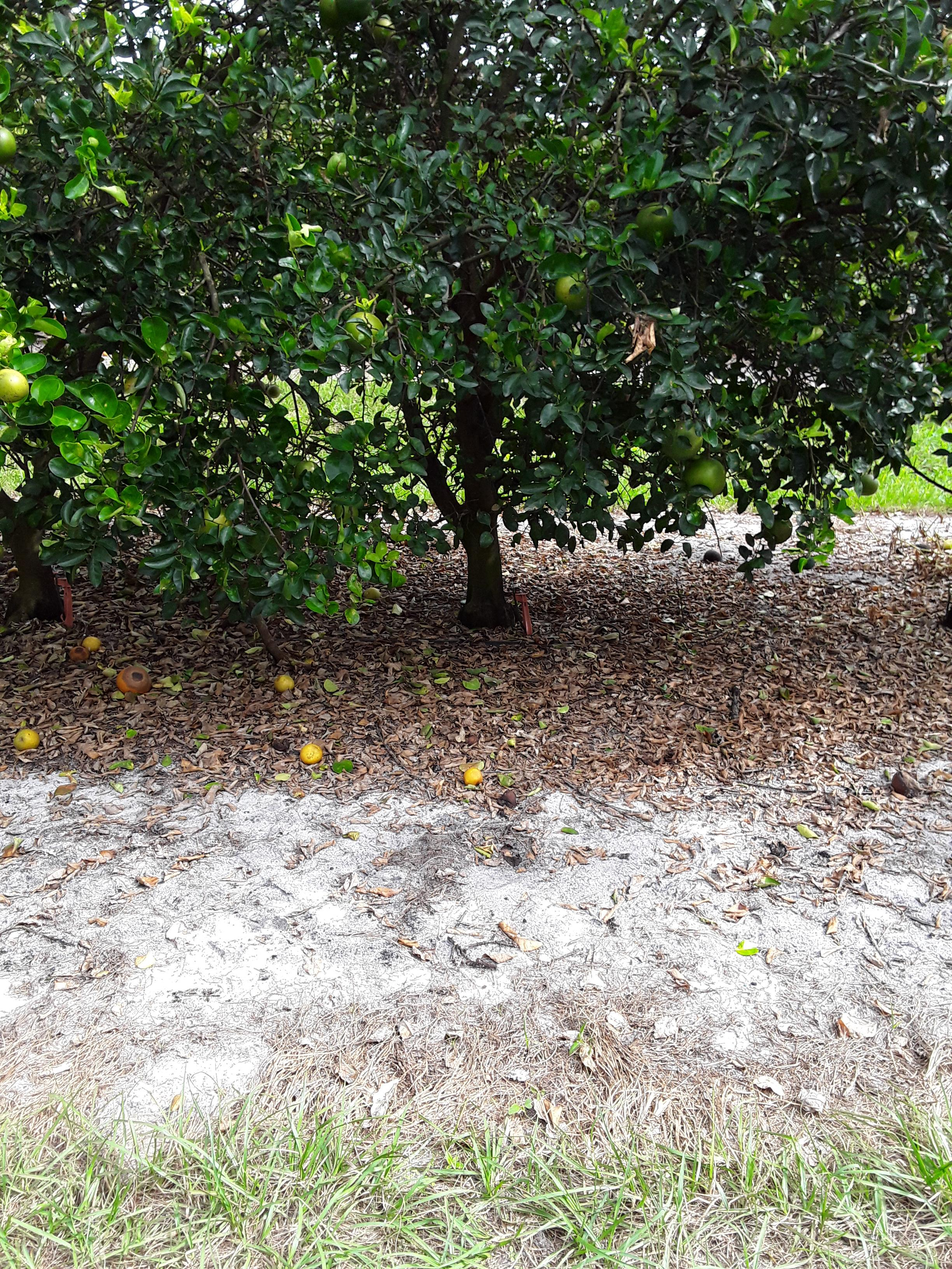fruit_on_ground: (553, 261, 604, 315), (341, 309, 393, 359), (635, 198, 687, 246), (682, 453, 730, 500), (191, 500, 240, 546), (364, 16, 402, 51), (289, 458, 333, 487), (759, 512, 798, 544), (317, 0, 354, 33), (1, 361, 30, 402), (336, 0, 384, 24), (0, 130, 24, 165), (854, 472, 882, 498)
fruit_on_tree: (115, 664, 152, 698), (12, 728, 38, 760), (299, 741, 327, 768), (272, 672, 299, 697), (890, 770, 913, 796), (462, 760, 483, 787), (68, 644, 92, 666), (265, 736, 294, 754), (499, 788, 522, 810), (80, 635, 105, 654), (360, 586, 383, 603), (703, 545, 721, 566), (940, 534, 952, 552)
